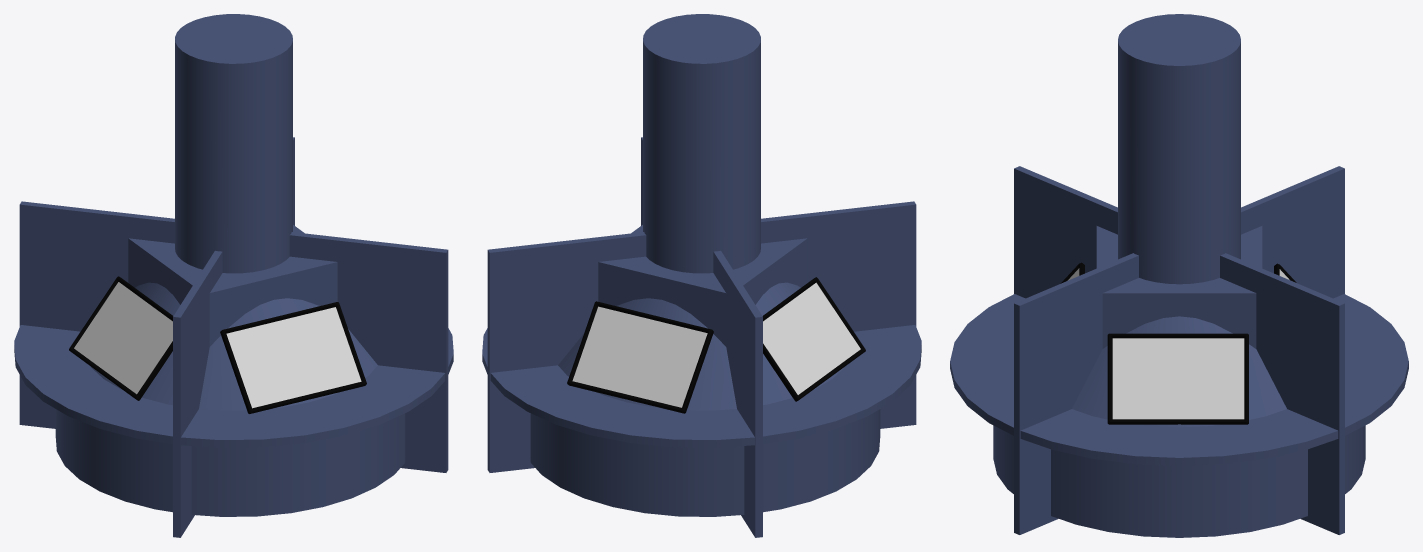
The model's file is QuadDesk.fbx.
3 views of the same model, side by side, from view 1: azimuth 30°, elevation 25°; view 2: azimuth 150°, elevation 25°; view 3: azimuth 270°, elevation 25° (orthographic). The views are drawn at different scales.
Visible parts, largest first — view 1: RoundQuadDesk; view 2: RoundQuadDesk; view 3: RoundQuadDesk.
Boxes of the visible parts, x1,y1,x2,y2 form: RoundQuadDesk: [14, 14, 453, 537]; RoundQuadDesk: [482, 14, 921, 537]; RoundQuadDesk: [950, 14, 1408, 537].
Size of the model in its own units: 398 by 407 by 398.
